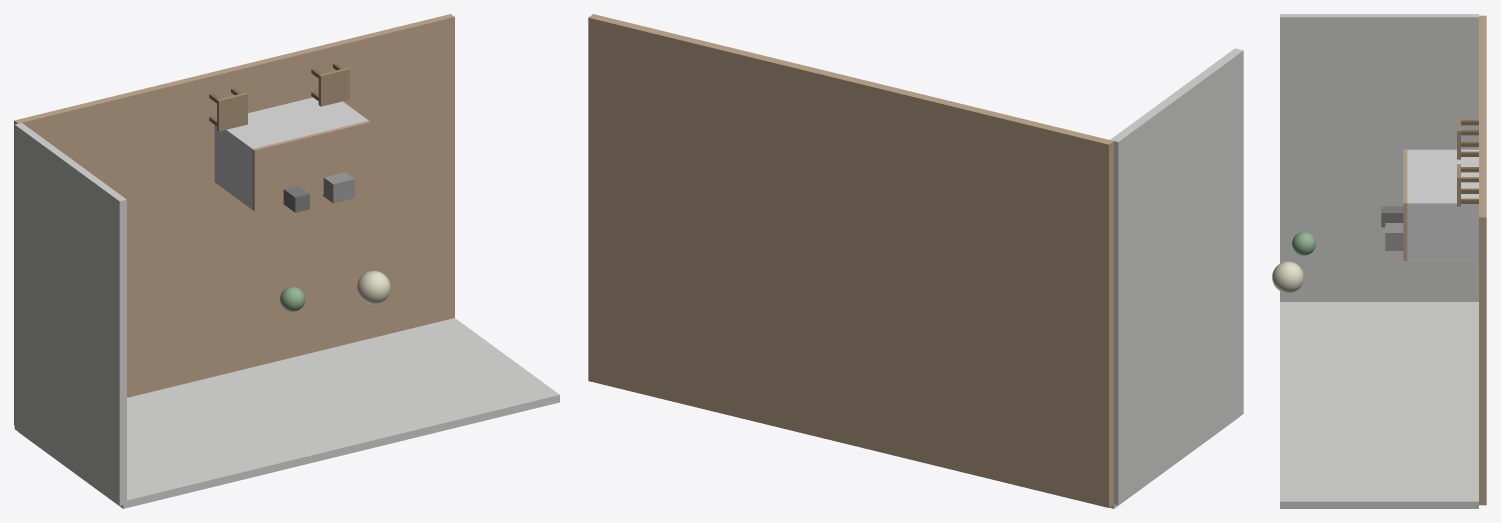
The model's file is dream_wood_kitchen.glb.
The picture shows the model from 3 angles, left to right: view 1: azimuth 30°, elevation 25°; view 2: azimuth 150°, elevation 25°; view 3: azimuth 270°, elevation 25°; orthographic projection. The views are drawn at different scales.
Parts seen in each view (by area): view 1: world; view 2: world; view 3: world.
Boxes of the visible parts, x1,y1,x2,y2 form: world: (14, 14, 559, 508); world: (588, 14, 1243, 508); world: (1272, 14, 1486, 508).
Bounding box in the file's own units: 6.05 × 4.05 × 2.7.
